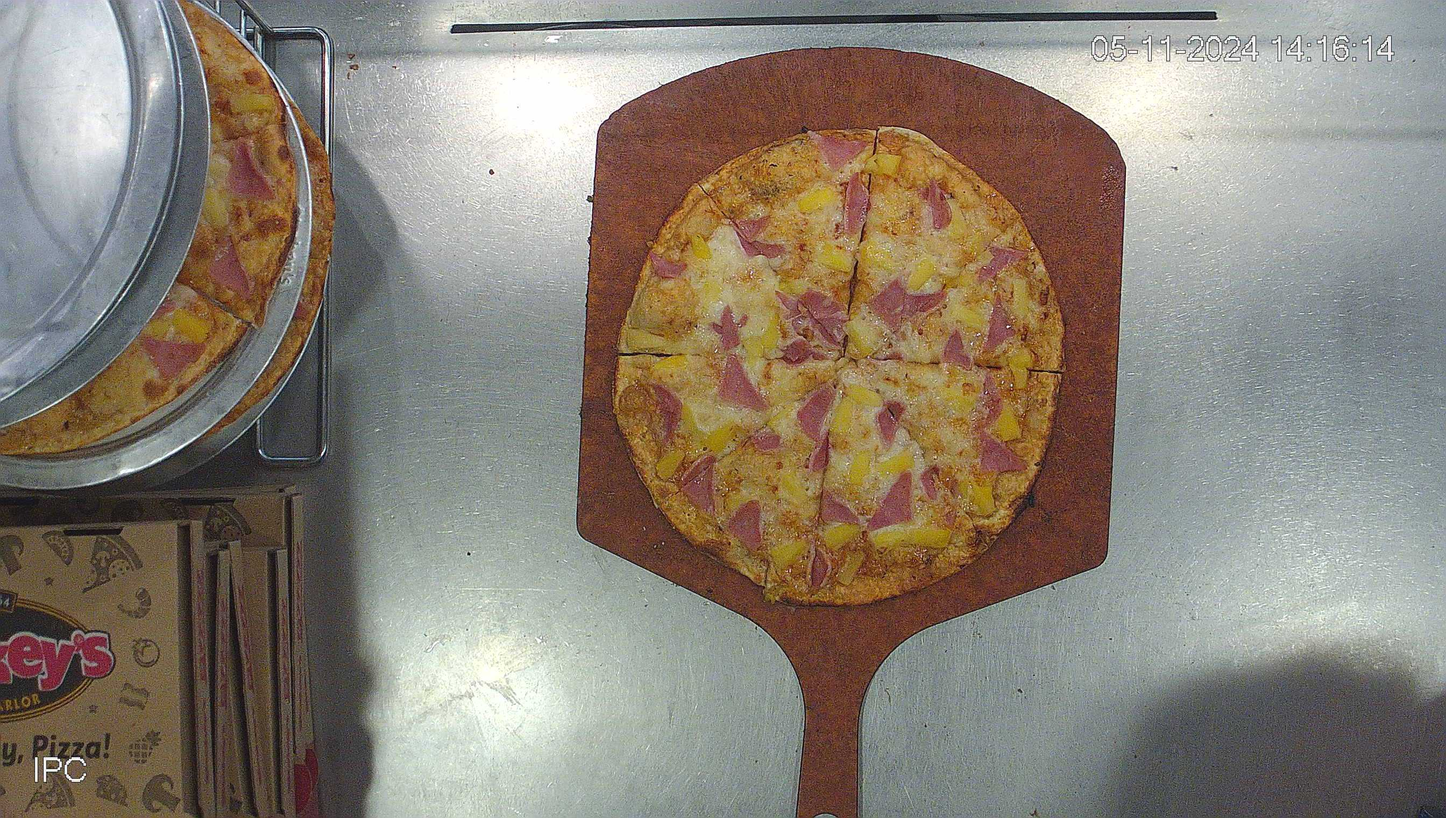manager_choice: (614, 125, 1066, 605)
